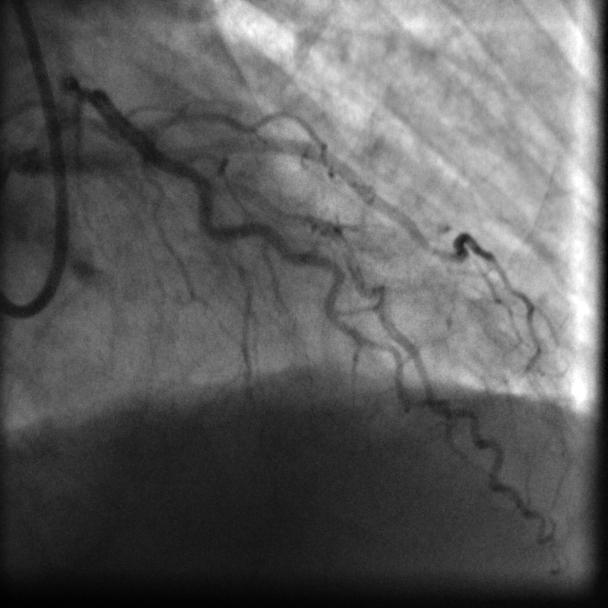Stenosis: (67, 69, 95, 117)
